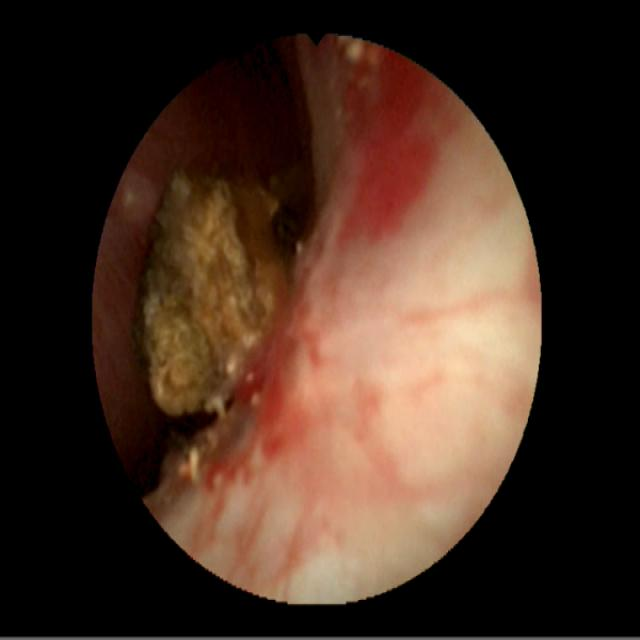stone: (143, 172, 287, 420)
tissue: (101, 40, 528, 588)
